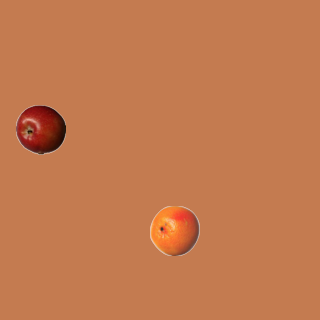Apple Braeburn: (15, 104, 65, 154)
Grapefruit Pink: (149, 205, 199, 255)
